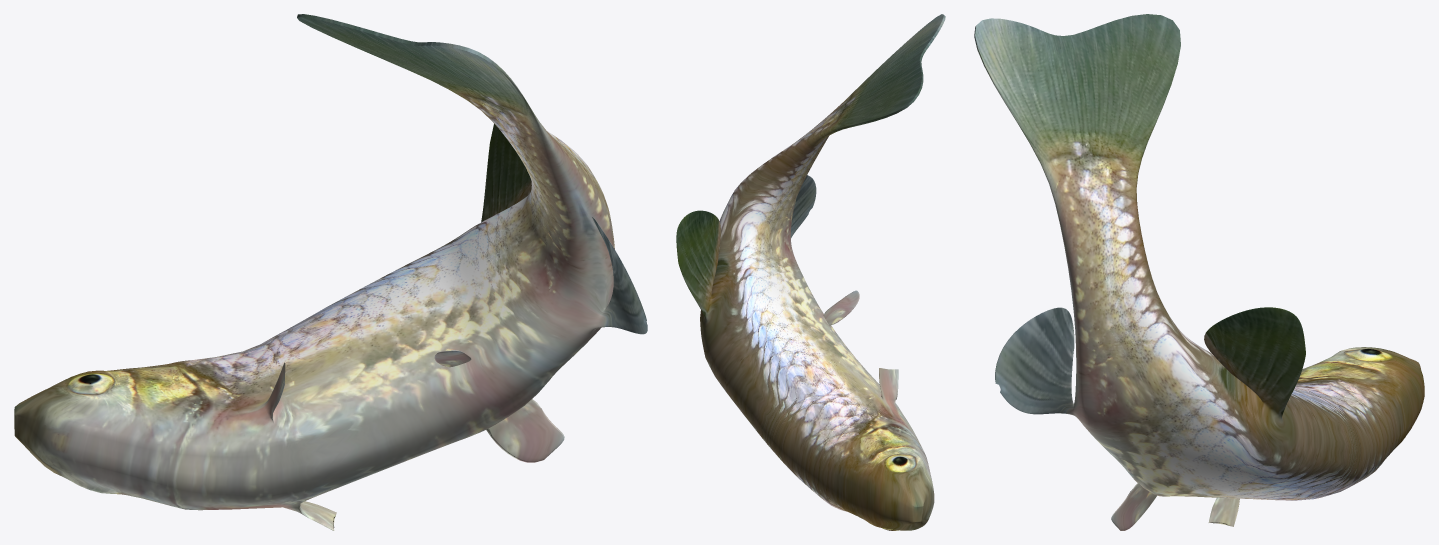
Rendered from hinamoroko_model.fbx.
The picture shows the model from 3 angles, left to right: view 1: azimuth 30°, elevation 25°; view 2: azimuth 150°, elevation 25°; view 3: azimuth 270°, elevation 25°; orthographic projection. The views are drawn at different scales.
Parts seen in each view (by area): view 1: pCube3; view 2: pCube3; view 3: pCube3.
Part boxes in pixels (x1,y1,x2,y2): pCube3: (14, 14, 647, 530); pCube3: (676, 14, 945, 530); pCube3: (974, 14, 1424, 530).
Bounding box in the file's own units: 8.34 × 10.47 × 8.46.
